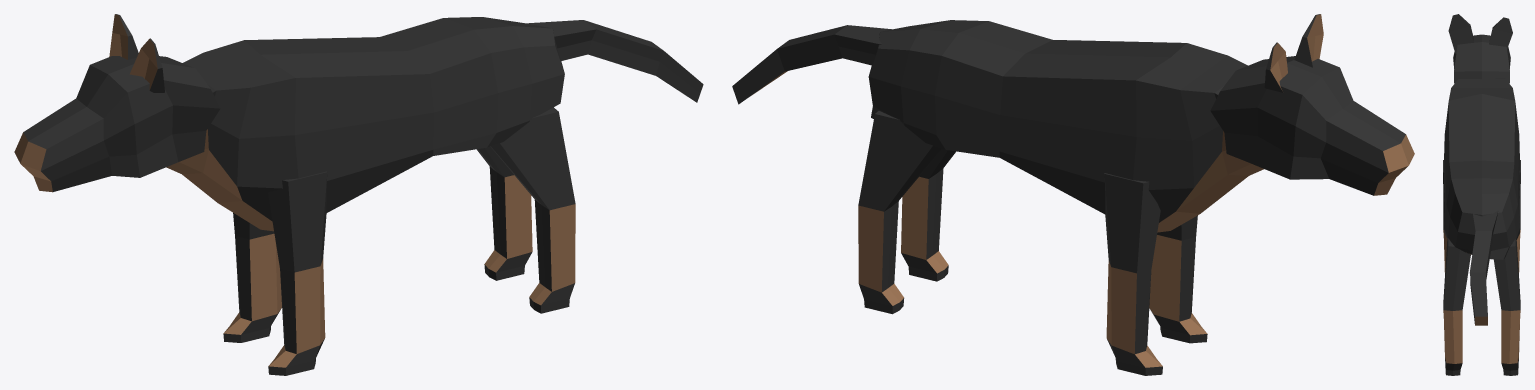
The model's file is dog.glb.
3 renders of one model, left to right at view 1: azimuth 30°, elevation 25°; view 2: azimuth 150°, elevation 25°; view 3: azimuth 270°, elevation 25°, orthographic. The views are drawn at different scales.
Parts seen in each view (by area): view 1: Cube, Cube.001, Cube.003, Cube.005, Cube.004, Cube.006, Cube.002, Cube.008, Cube.007; view 2: Cube, Cube.001, Cube.004, Cube.002, Cube.003, Cube.006, Cube.005, Cube.008, Cube.007; view 3: Cube, Cube.005, Cube.002, Cube.001, Cube.006, Cube.008, Cube.007, Cube.003, Cube.004.
Boxes of the visible parts, x1,y1,x2,y2 form: Cube: [166, 17, 564, 231]; Cube.001: [14, 56, 220, 192]; Cube.003: [268, 171, 327, 375]; Cube.005: [490, 107, 575, 313]; Cube.004: [223, 213, 281, 342]; Cube.006: [525, 20, 703, 102]; Cube.002: [477, 146, 532, 280]; Cube.008: [130, 38, 164, 92]; Cube.007: [109, 14, 138, 59]; Cube: [868, 20, 1263, 232]; Cube.001: [1210, 56, 1414, 195]; Cube.004: [1104, 173, 1162, 375]; Cube.002: [858, 111, 942, 314]; Cube.003: [1149, 215, 1207, 343]; Cube.006: [732, 25, 891, 104]; Cube.005: [901, 149, 956, 281]; Cube.008: [1294, 14, 1323, 67]; Cube.007: [1264, 42, 1287, 92]; Cube: [1444, 78, 1519, 259]; Cube.005: [1443, 238, 1470, 375]; Cube.002: [1493, 239, 1520, 375]; Cube.001: [1453, 34, 1510, 83]; Cube.006: [1469, 210, 1498, 325]; Cube.008: [1448, 14, 1473, 53]; Cube.007: [1489, 17, 1512, 48]; Cube.003: [1443, 160, 1447, 272]; Cube.004: [1516, 160, 1520, 272].
Bounding box in the file's own units: 3.82 × 1.95 × 0.5897.
